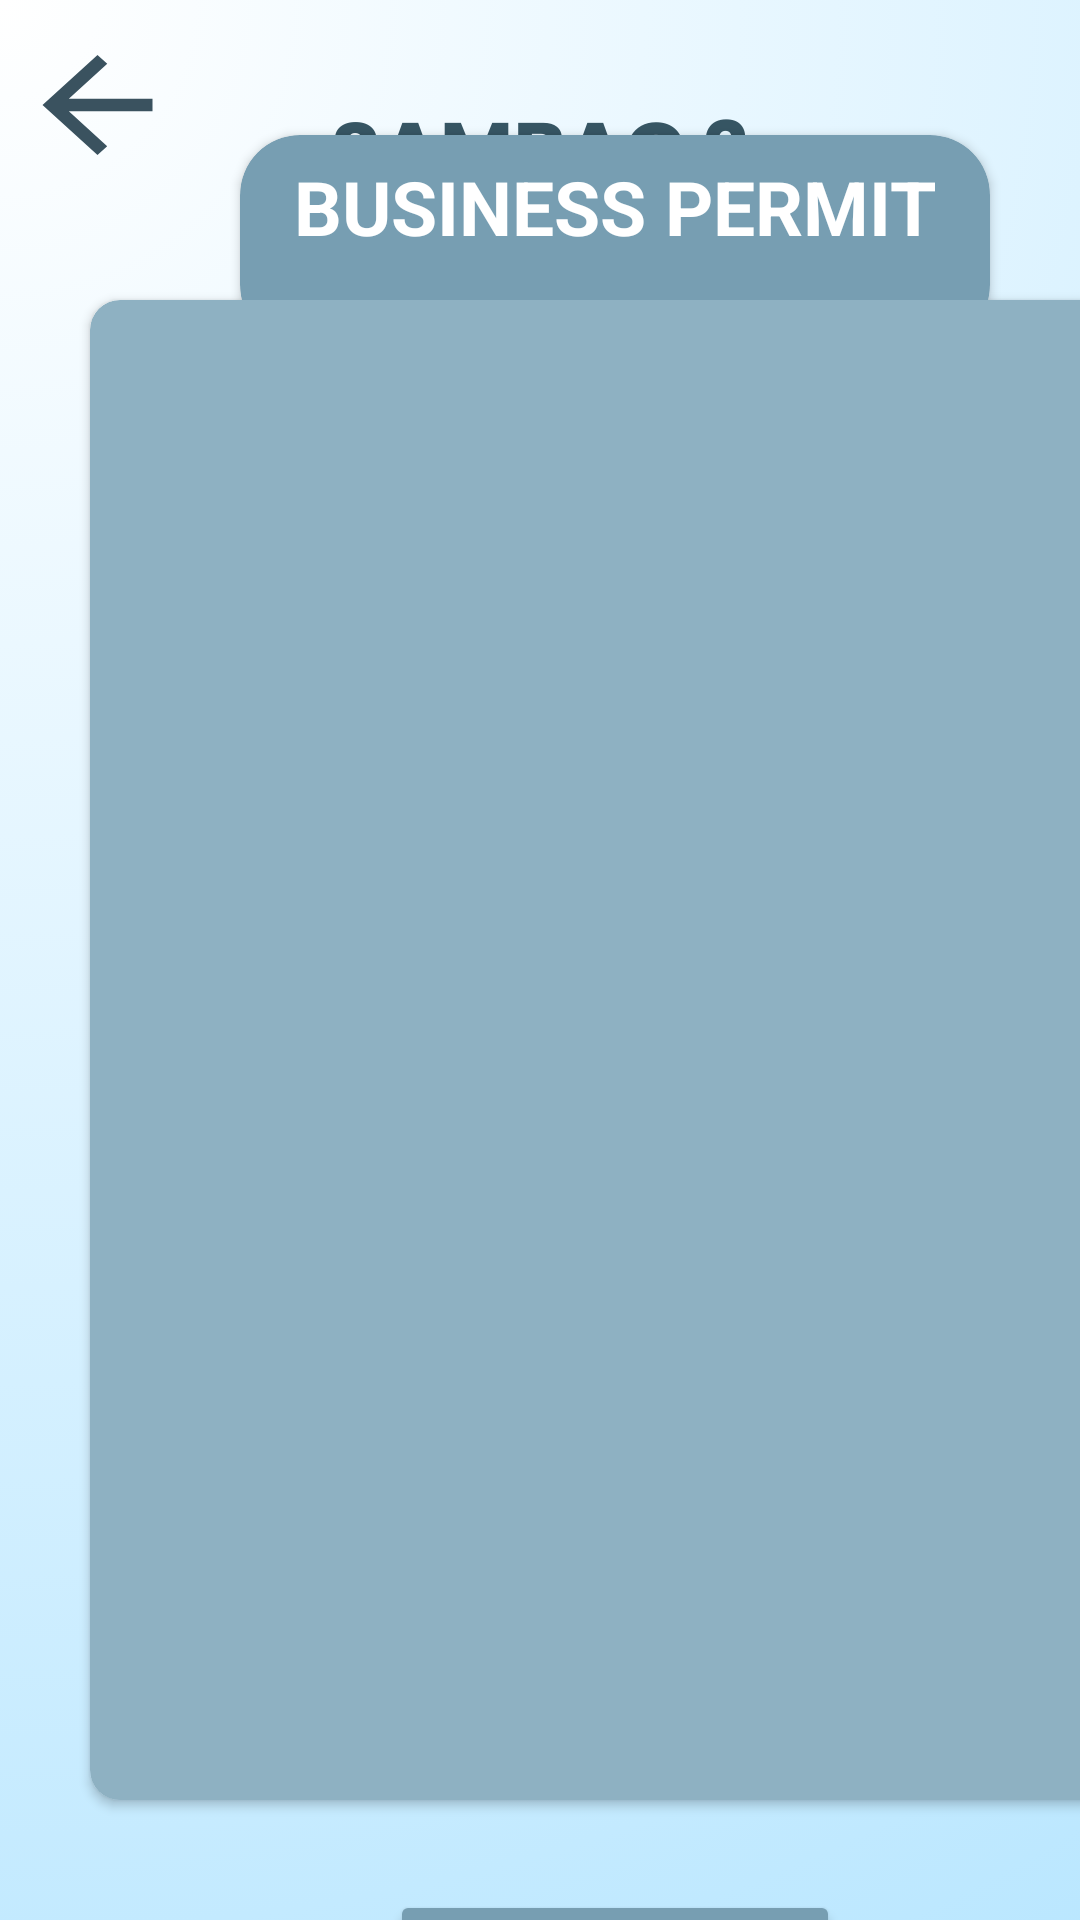

Icons on this 1080×1920 Android screen, each with its box as (x1, y1, x2, y2):
back: (43, 55, 153, 155)
